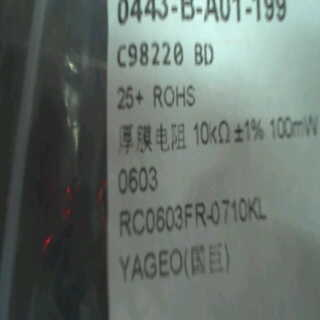10kR: (190, 116, 232, 151)
